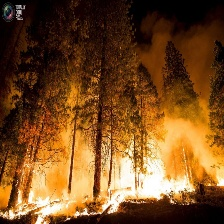fire: (1, 162, 224, 223)
smoke: (129, 25, 222, 158)
